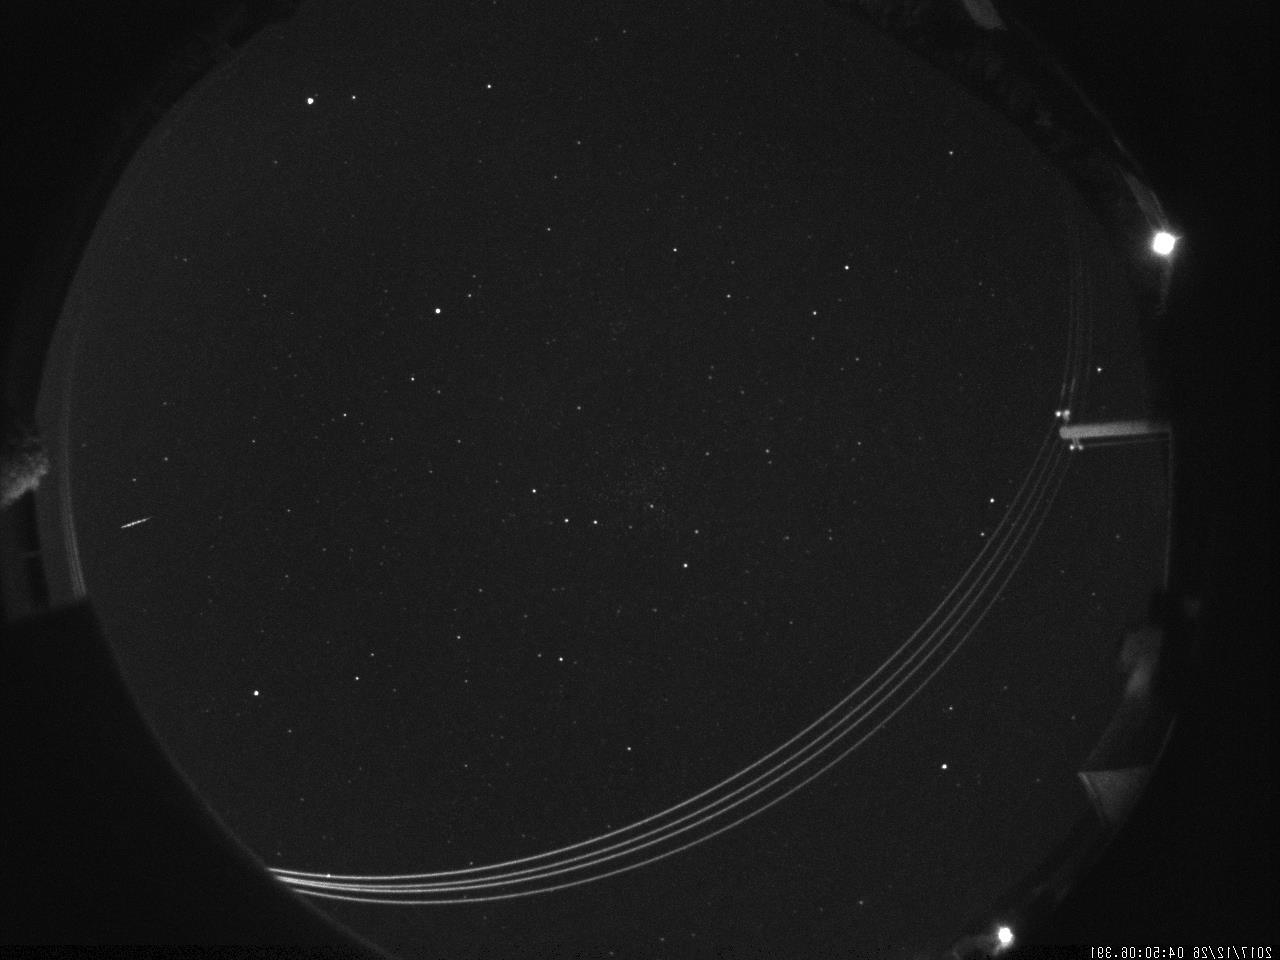meteor: (113, 508, 161, 542)
